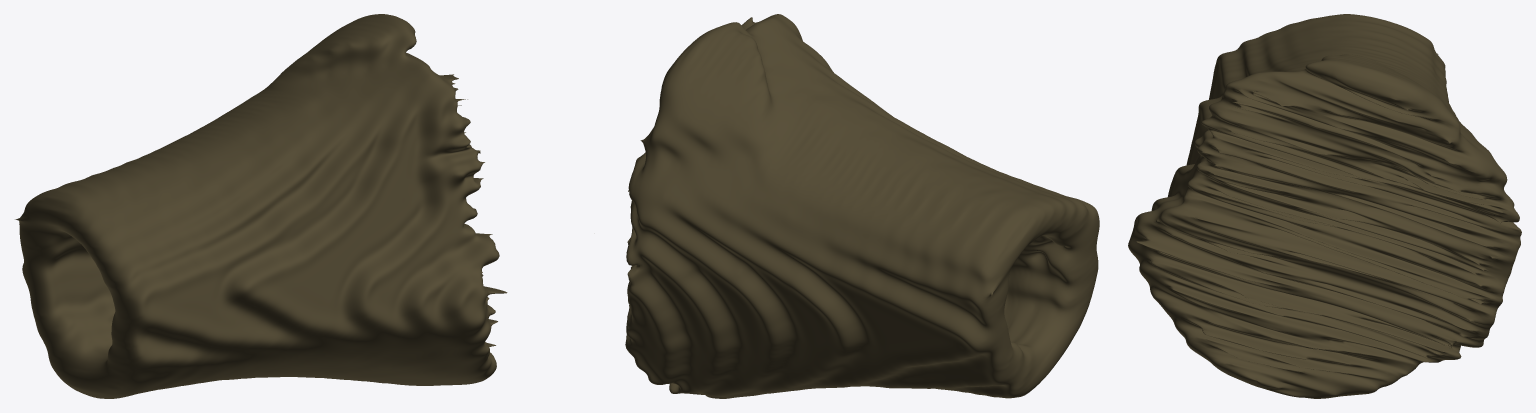
File: proximal1.obj
3 renders of one model, left to right at view 1: azimuth 30°, elevation 25°; view 2: azimuth 150°, elevation 25°; view 3: azimuth 270°, elevation 25°, orthographic. The views are drawn at different scales.
Parts seen in each view (by area): view 1: proximal; view 2: proximal; view 3: proximal.
Boxes of the visible parts, <box> form: proximal: <box>15,14,507,398</box>; proximal: <box>625,14,1099,398</box>; proximal: <box>1128,14,1521,398</box>.
Size of the model in its own units: 0.0571 by 0.045 by 0.0478.
